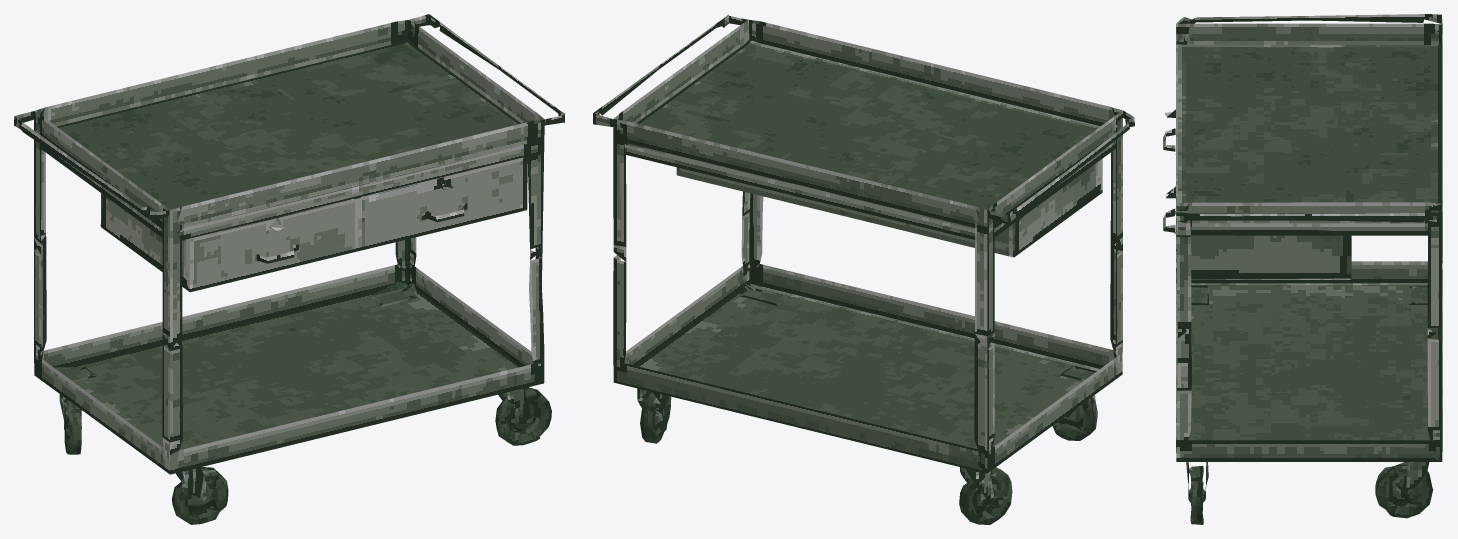
Rendered from tool_cart.glb.
3 views of the same model, side by side, from view 1: azimuth 30°, elevation 25°; view 2: azimuth 150°, elevation 25°; view 3: azimuth 270°, elevation 25° (orthographic). The views are drawn at different scales.
Parts seen in each view (by area): view 1: mesh; view 2: mesh; view 3: mesh.
Boxes of the visible parts, x1=… form: mesh: x1=14, y1=14, x2=564, y2=524; mesh: x1=593, y1=14, x2=1134, y2=524; mesh: x1=1163, y1=14, x2=1442, y2=524.
Size of the model in its own units: 1.27 by 0.9646 by 0.7522.
1 material, 1 textured.
